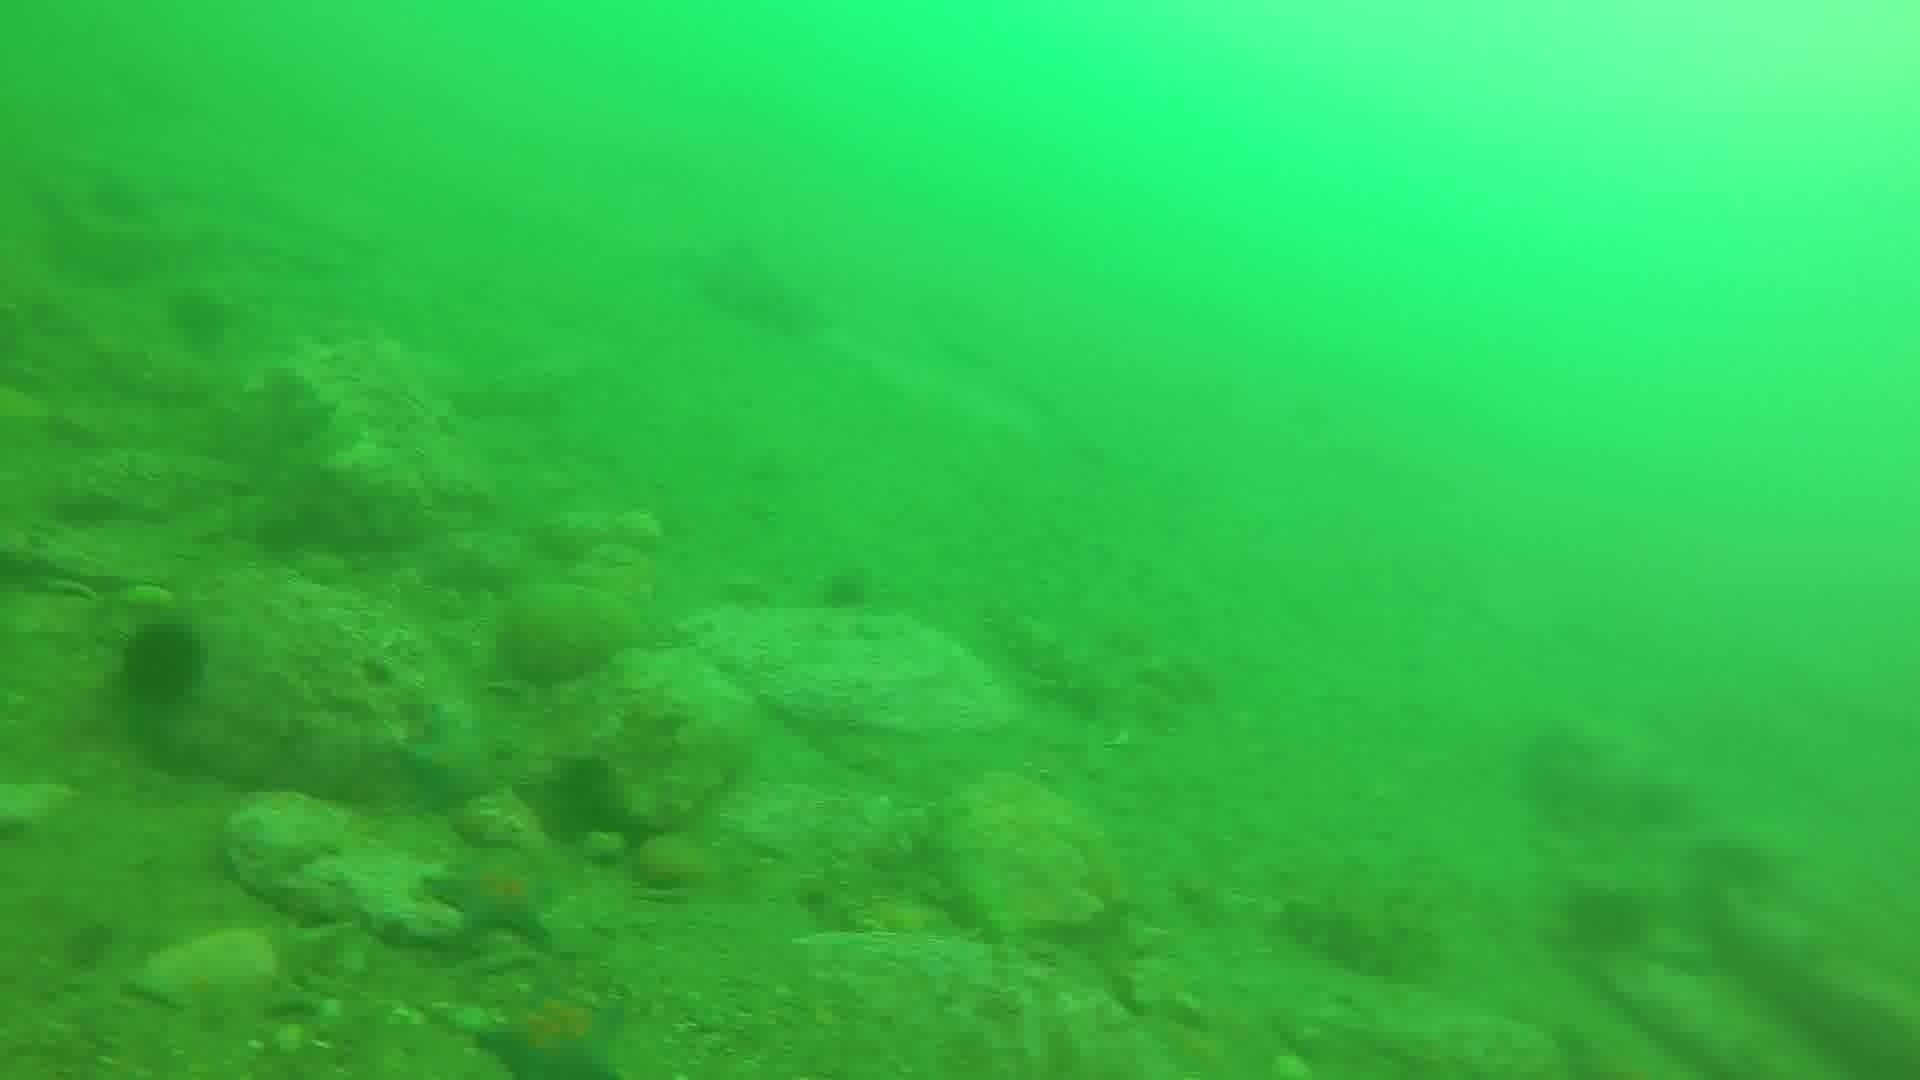echinus: (113, 616, 211, 711), (1553, 878, 1654, 959), (161, 284, 237, 356), (814, 563, 878, 616)
holothurian: (980, 593, 1120, 717), (1274, 885, 1444, 986)
starfish: (472, 982, 636, 1080), (419, 844, 563, 948), (396, 705, 508, 810)
